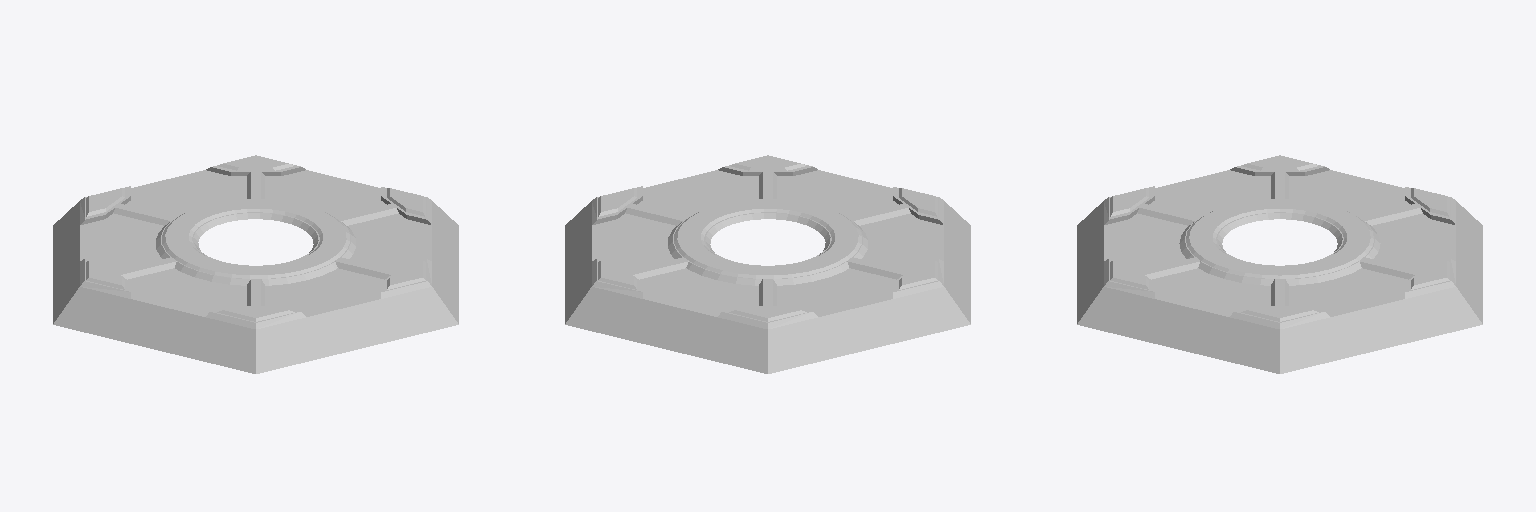
File: tile.obj
The picture shows the model from 3 angles: view 1: azimuth 30°, elevation 25°; view 2: azimuth 150°, elevation 25°; view 3: azimuth 270°, elevation 25°; orthographic projection.
Visible parts, largest first — view 1: tile tile_parts tile_part4, tile tile_parts tile_part3, tile tile_color, tile_bg tile, tile tile_parts tile_part5, tile tile_parts tile_part2, tile tile_parts tile_part1, tile tile_part6 tile_parts; view 2: tile tile_parts tile_part5, tile tile_part6 tile_parts, tile tile_color, tile_bg tile, tile tile_parts tile_part4, tile tile_parts tile_part1, tile tile_parts tile_part2, tile tile_parts tile_part3; view 3: tile tile_parts tile_part1, tile tile_parts tile_part2, tile tile_color, tile_bg tile, tile tile_part6 tile_parts, tile tile_parts tile_part3, tile tile_parts tile_part5, tile tile_parts tile_part4.
Boxes of the visible parts, <box> form: tile tile_parts tile_part4: <box>53,268,255,373</box>; tile tile_parts tile_part3: <box>256,268,458,373</box>; tile tile_color: <box>86,155,425,321</box>; tile_bg tile: <box>80,164,431,328</box>; tile tile_parts tile_part5: <box>53,201,163,323</box>; tile tile_parts tile_part2: <box>348,201,458,323</box>; tile tile_parts tile_part1: <box>265,170,386,216</box>; tile tile_part6 tile_parts: <box>125,170,246,216</box>; tile tile_parts tile_part5: <box>768,268,970,373</box>; tile tile_part6 tile_parts: <box>565,268,767,373</box>; tile tile_color: <box>598,155,937,321</box>; tile_bg tile: <box>592,164,943,328</box>; tile tile_parts tile_part4: <box>860,201,970,323</box>; tile tile_parts tile_part1: <box>565,201,675,323</box>; tile tile_parts tile_part2: <box>637,170,758,216</box>; tile tile_parts tile_part3: <box>777,170,898,216</box>; tile tile_parts tile_part1: <box>1280,268,1482,373</box>; tile tile_parts tile_part2: <box>1077,268,1279,373</box>; tile tile_color: <box>1110,155,1449,321</box>; tile_bg tile: <box>1104,164,1455,328</box>; tile tile_part6 tile_parts: <box>1372,201,1482,323</box>; tile tile_parts tile_part3: <box>1077,201,1187,323</box>; tile tile_parts tile_part5: <box>1289,170,1410,216</box>; tile tile_parts tile_part4: <box>1149,170,1270,216</box>.
Size of the model in its own units: 2 by 0.181 by 1.73.